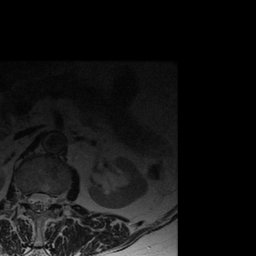CCS_normal: (35, 186, 44, 217)
LFS_normal: (51, 190, 57, 208)
LLS_normal: (44, 187, 51, 213)
RFS_normal: (21, 189, 29, 208)
RLS_normal: (28, 187, 35, 213)
